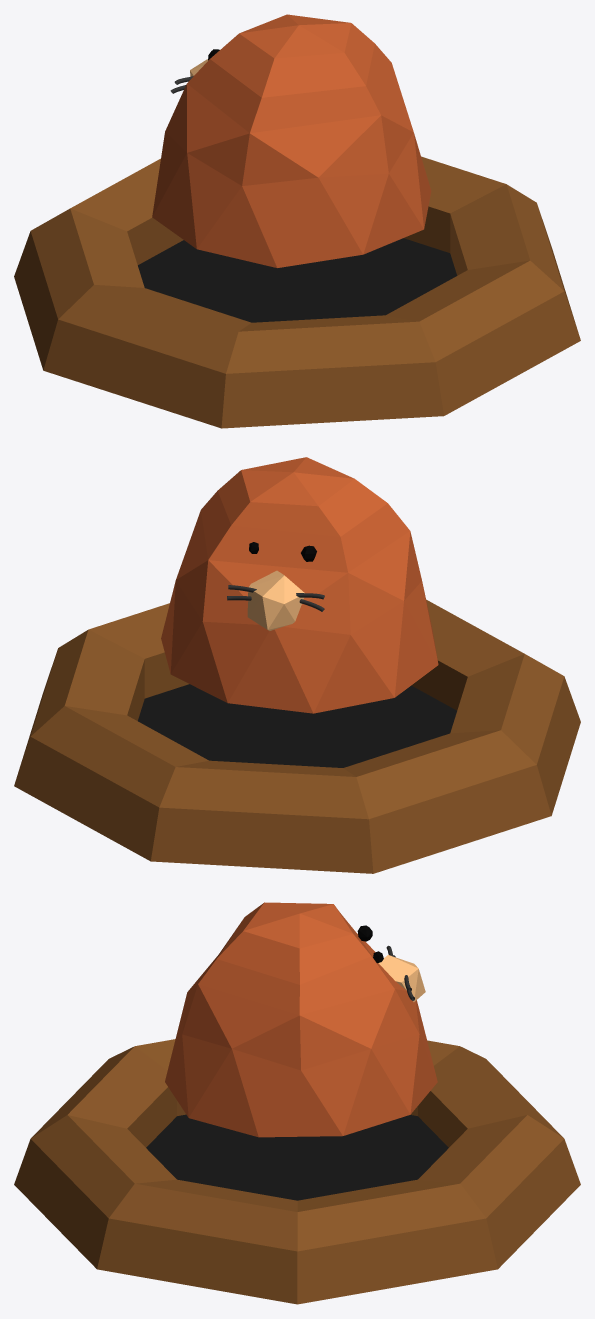
File: mole-hill-02.fbx
The picture shows the model from 3 angles, top to bottom: view 1: azimuth 30°, elevation 25°; view 2: azimuth 150°, elevation 25°; view 3: azimuth 270°, elevation 25°; orthographic projection. The views are drawn at different scales.
Parts seen in each view (by area): view 1: Ground, Mole; view 2: Ground, Mole, NoseHair; view 3: Ground, Mole.
Boxes of the visible parts, left/top/right/bottom form: Ground: left=14, top=156, right=580, bottom=428; Mole: left=152, top=14, right=431, bottom=267; Ground: left=14, top=599, right=580, bottom=873; Mole: left=161, top=457, right=438, bottom=713; NoseHair: left=227, top=585, right=324, bottom=611; Ground: left=14, top=1039, right=580, bottom=1304; Mole: left=165, top=902, right=437, bottom=1137.
Size of the model in its own units: 133 by 70.37 by 133.
